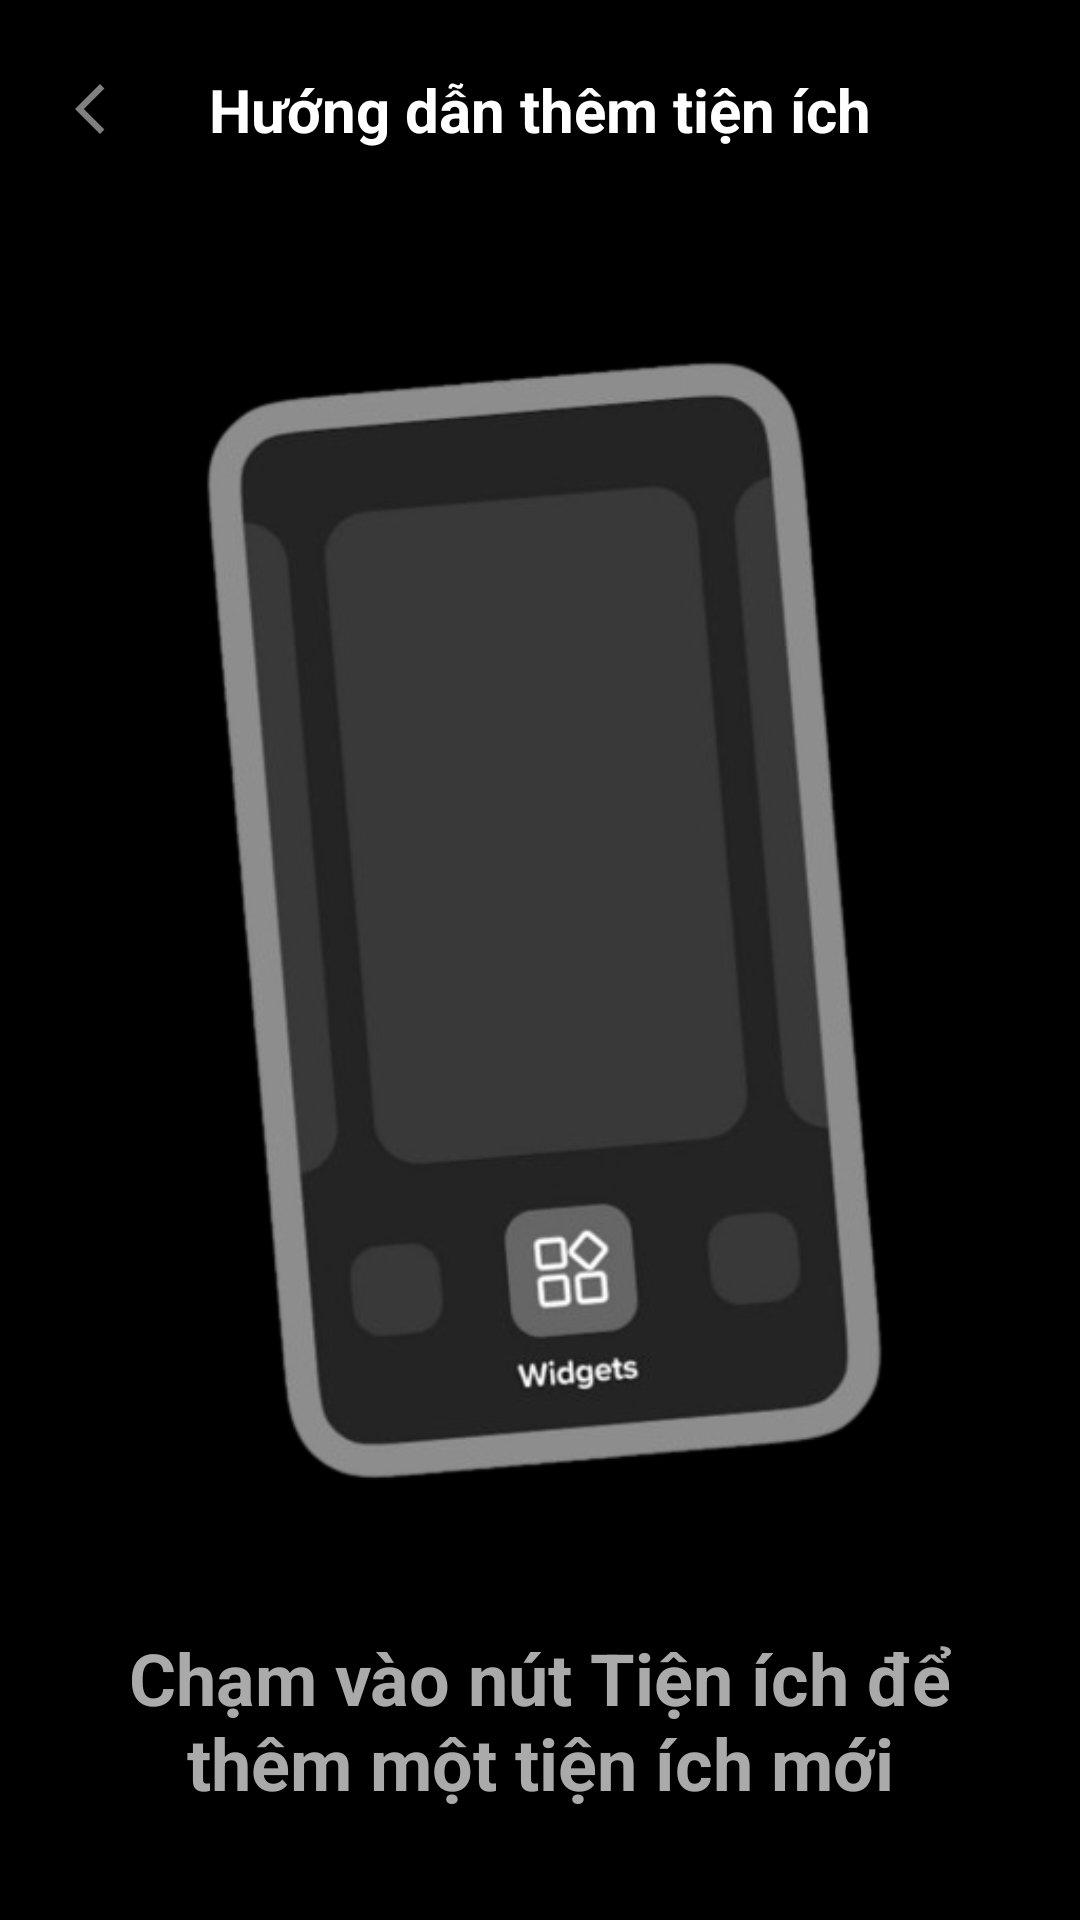

Screen size 1080px x 1920px. Icon name, then its box in pixels as (x1, y1, x2, y2):
back: (75, 84, 104, 134)
